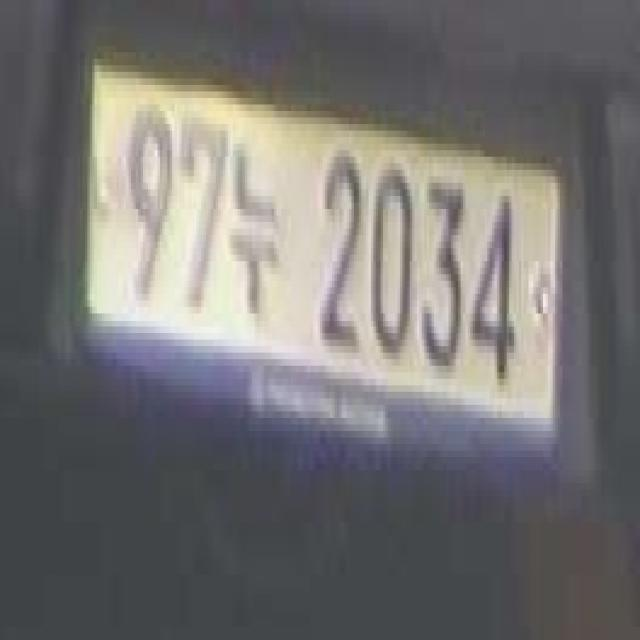0: (370, 154, 410, 372)
2: (315, 137, 365, 368)
3: (424, 154, 465, 392)
4: (470, 172, 527, 394)
7: (178, 101, 225, 321)
9: (127, 86, 173, 308)
license_plate: (77, 59, 556, 470)
nu: (230, 127, 282, 320)
